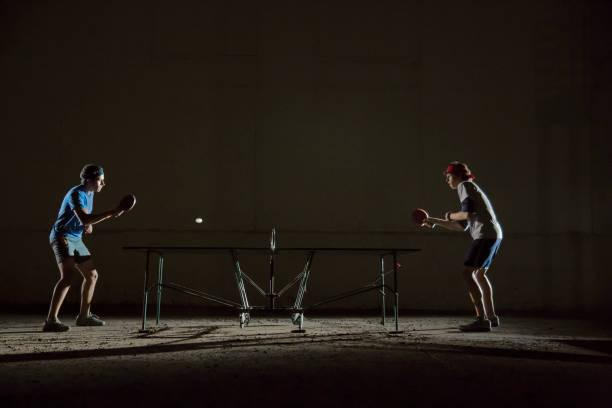ball_pingpong: (194, 215, 204, 224)
